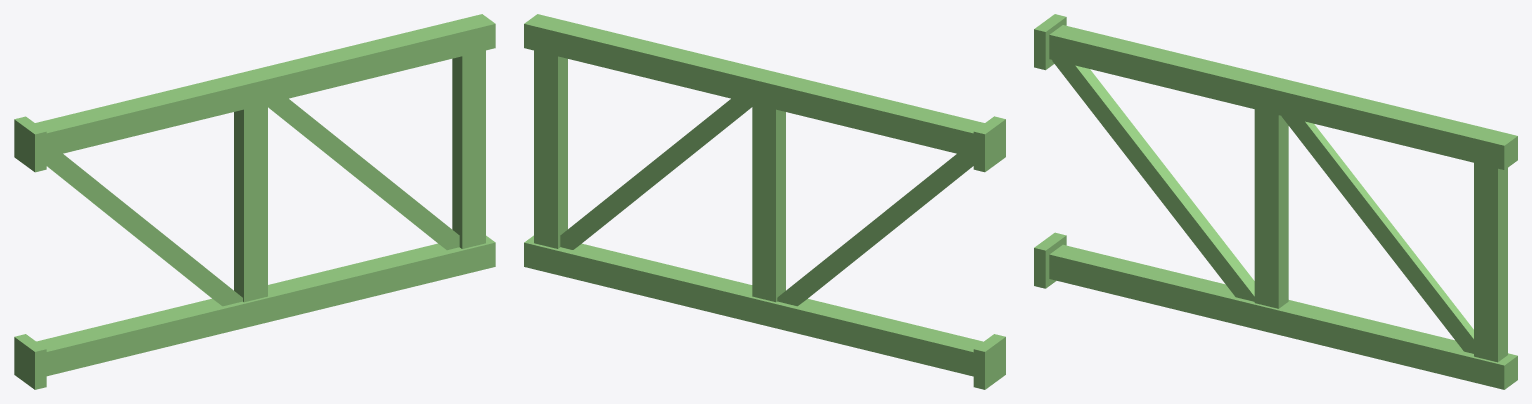
Rendered from Lattice_2x.fbx.
3 views of the same model, side by side, from view 1: azimuth 30°, elevation 25°; view 2: azimuth 150°, elevation 25°; view 3: azimuth 330°, elevation 25° (orthographic).
Parts seen in each view (by area): view 1: Lattice_2x; view 2: Lattice_2x; view 3: Lattice_2x.
Part boxes in pixels (<box>): Lattice_2x: <box>14,14,495,389</box>; Lattice_2x: <box>524,14,1005,389</box>; Lattice_2x: <box>1034,14,1517,389</box>.
Bounding box in the file's own units: 300 × 158 × 23.2.
